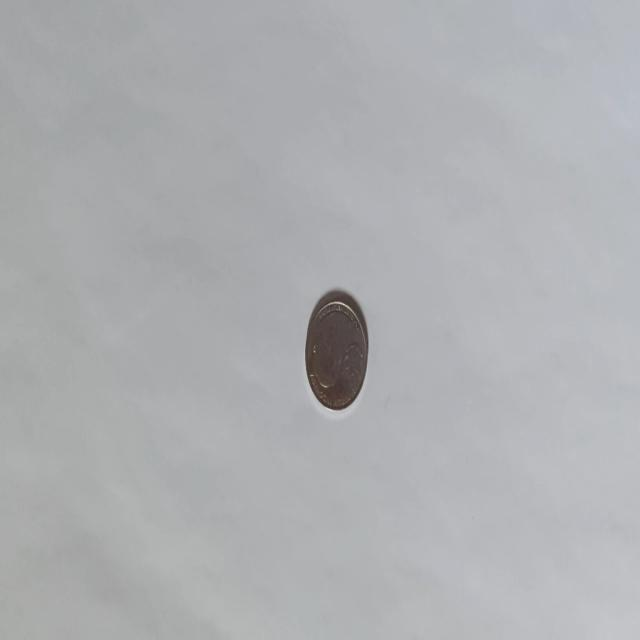seribu rupiah koin: (304, 292, 368, 412)
